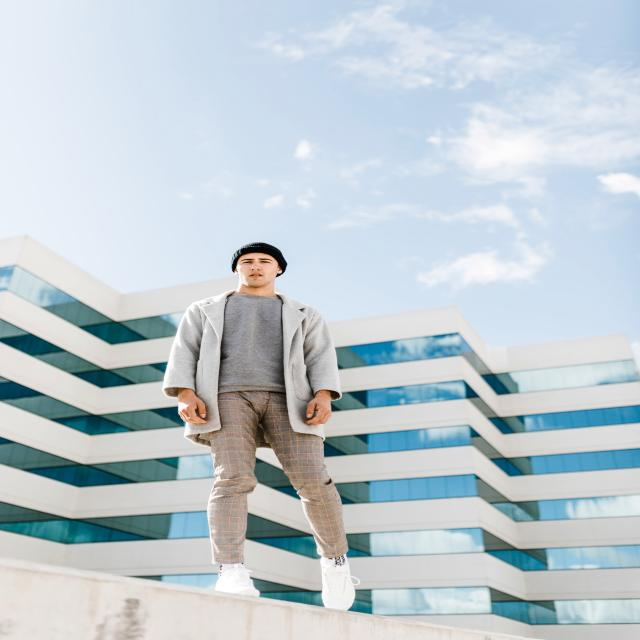adult: (159, 239, 351, 601)
